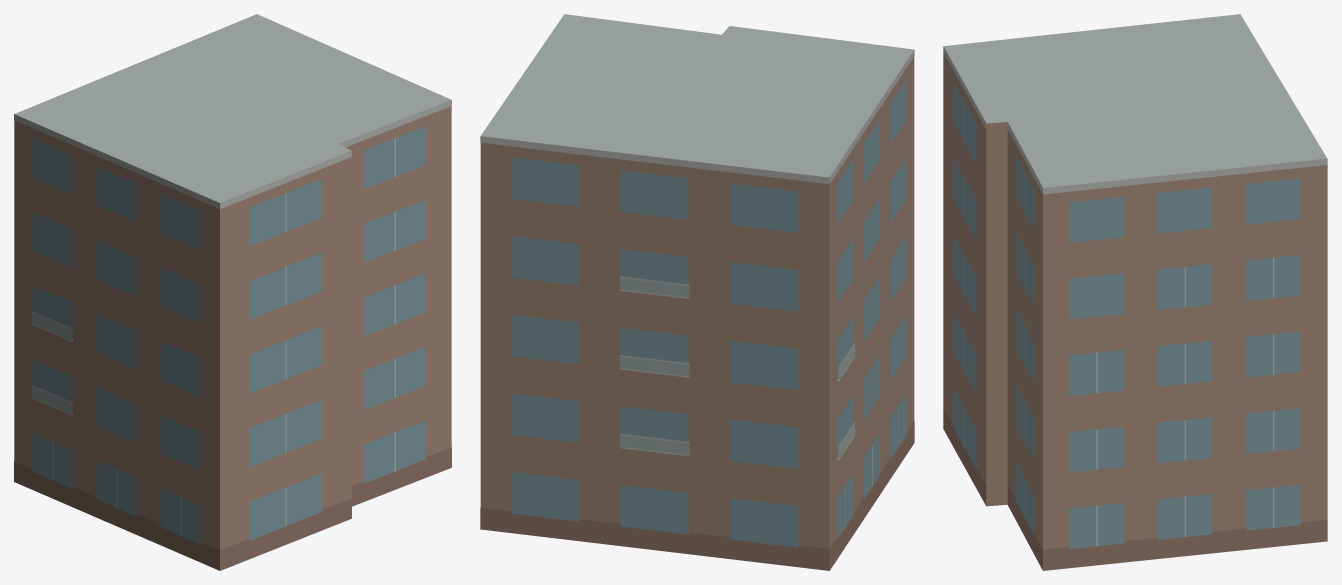
File: survey-upis-32715181.glb
3 renders of one model, left to right at view 1: azimuth 30°, elevation 25°; view 2: azimuth 150°, elevation 25°; view 3: azimuth 270°, elevation 25°, orthographic. The views are drawn at different scales.
Visible parts, largest first — view 1: survey-upis-32715181.tmp; view 2: survey-upis-32715181.tmp; view 3: survey-upis-32715181.tmp.
Boxes of the visible parts, x1,y1,x2,y2 form: survey-upis-32715181.tmp: (14, 14, 451, 570); survey-upis-32715181.tmp: (480, 14, 914, 570); survey-upis-32715181.tmp: (943, 14, 1327, 570).
Bounding box in the file's own units: 14.2 × 14.55 × 13.24.
